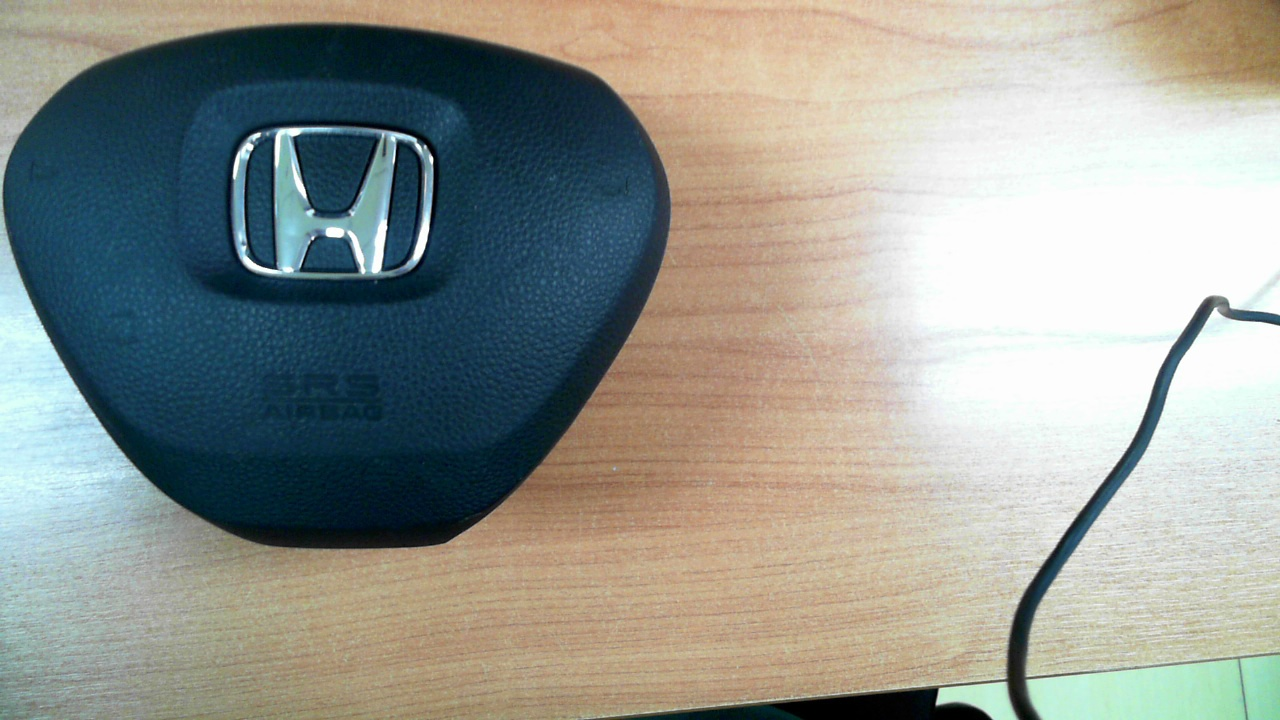Airbag: (2, 22, 671, 551)
Honda: (231, 125, 434, 280)
